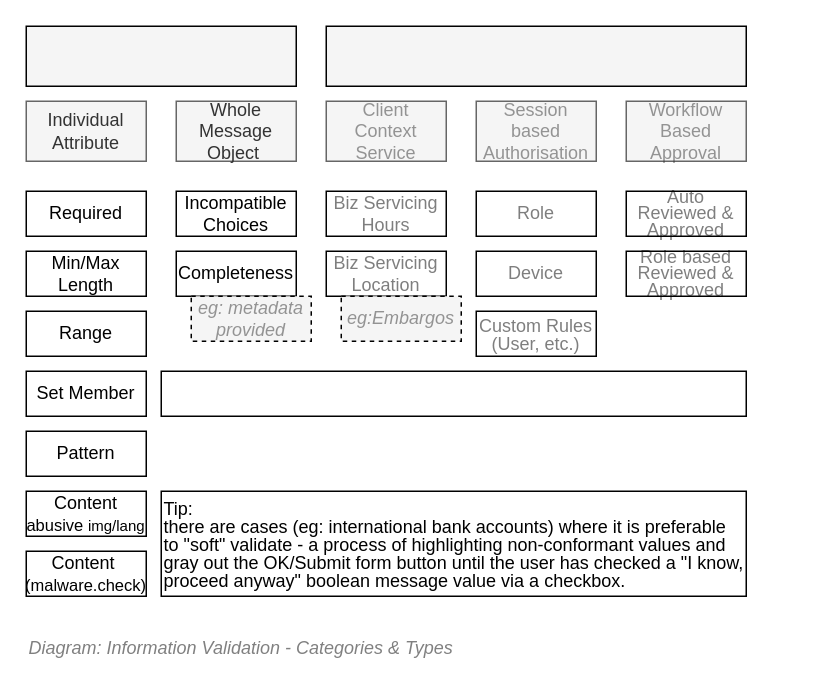
Image size: 833x690. Some labels were removed from this diagram. The shapes that lost their labels are listed below. From the top down, each one's centre as x and y in pixels, then its label:
At [160,55]: "Validation".
At [535,55]: "Authorisation".
At [453,393]: "Note: that Validation is not the same as Authorisation.".
